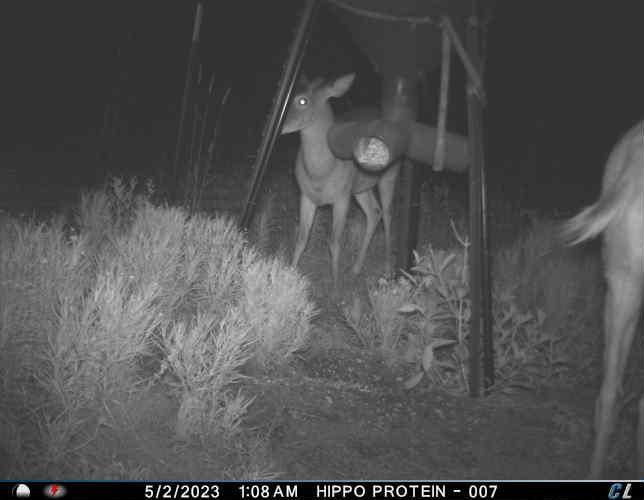Deer: (547, 112, 644, 481), (276, 64, 401, 284)
